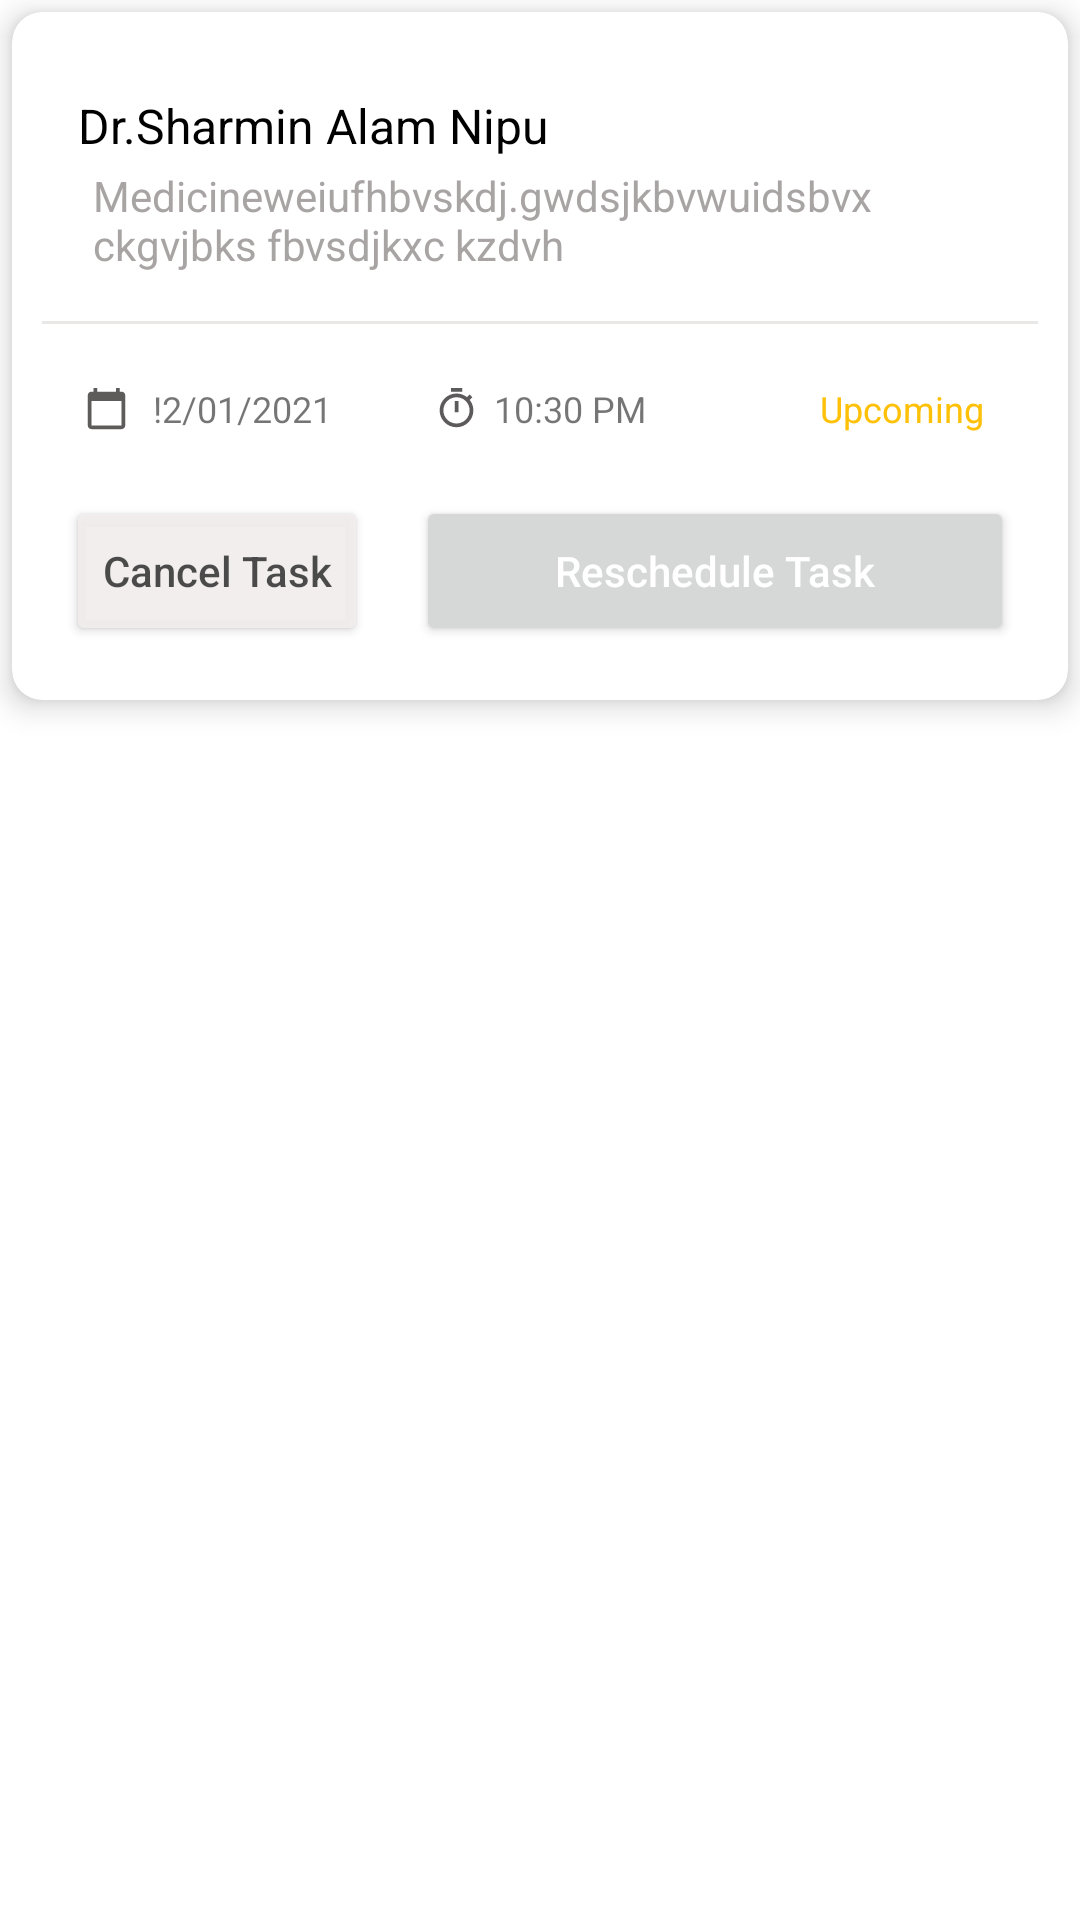

Where icons sit on this 1080x1920 app screen, as region(x1, y1, x2, y2):
calender: region(87, 388, 126, 430)
timer: region(439, 388, 474, 428)
